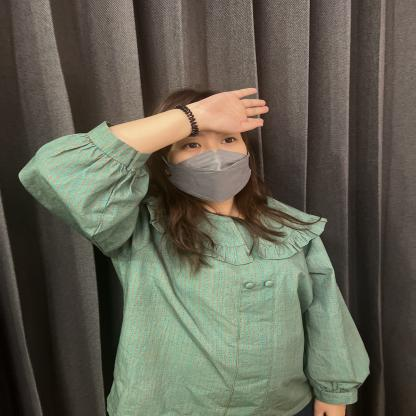Sick: (98, 80, 348, 194)
